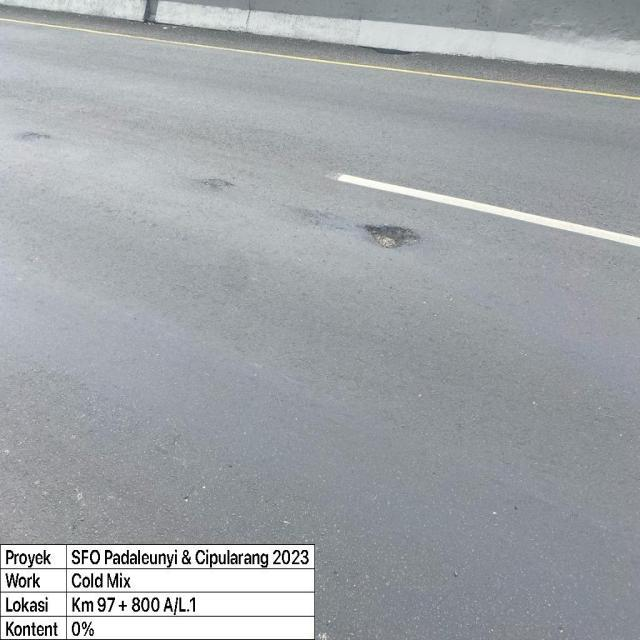Buraco: (360, 223, 424, 251)
